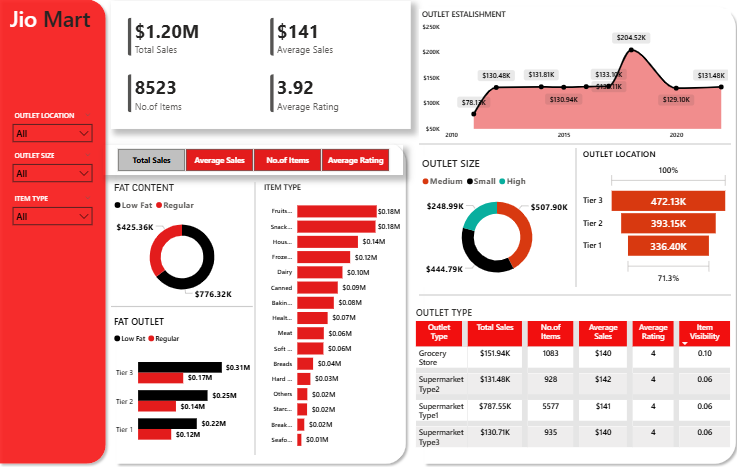

What the dashboard file says about the page in this screenshot:
{"tool":"powerbi","page":{"name":"Page 1","canvas":[1320,850],"ordinal":0},"visuals":[{"type":"shape","box":[10.4,13.9,203,824],"z":0},{"type":"textbox","box":[33,26,157.9,59],"z":1000},{"type":"cardVisual","fields":{"Data":["BlinkIT Grocery Data.Total Sales","BlinkIT Grocery Data.Average Sales","BlinkIT Grocery Data.No.of Items","BlinkIT Grocery Data.Average Rating"]},"box":[213.4,26,520.4,222],"z":2000},{"type":"shape","box":[213.4,261.9,520.4,575.9],"z":3000},{"type":"donutChart","title":"FAT CONTENT","fields":{"Category":["BlinkIT Grocery Data.Item Fat Content"],"Y":["BlinkIT Grocery Data.Total Sales"]},"box":[213.4,340,246.3,209.9],"z":4000},{"type":"slicer","fields":{"Values":["Metrics.Metrics"]},"box":[199.5,275.8,520.4,52],"z":5000},{"type":"clusteredBarChart","title":"FAT OUTLET ","fields":{"Category":["BlinkIT Grocery Data.Outlet Location Type"],"Series":["BlinkIT Grocery Data.Item Fat Content"],"Y":["BlinkIT Grocery Data.Total Sales"]},"box":[213.4,570.7,246.3,242.9],"z":6000},{"type":"shape","box":[213.4,541.2,246.3,29.5],"z":8000},{"type":"shape","box":[456.2,340,13.9,473.6],"z":9000},{"type":"barChart","title":"ITEM TYPE","fields":{"Category":["BlinkIT Grocery Data.Item Type"],"Y":["BlinkIT Grocery Data.Total Sales"]},"box":[473.6,340,246.3,473.6],"z":10000},{"type":"shape","box":[747.7,26,558.6,811.8],"z":11000},{"type":"lineChart","title":"OUTLET ESTALISHMENT","fields":{"Category":["BlinkIT Grocery Data.Outlet Establishment Year"],"Y":["BlinkIT Grocery Data.Total Sales"]},"box":[747.7,39.9,541.2,235.9],"z":12000},{"type":"shape","box":[747.7,267.1,541.2,13.9],"z":13000},{"type":"donutChart","title":"OUTLET SIZE","fields":{"Category":["BlinkIT Grocery Data.Outlet Size"],"Y":["BlinkIT Grocery Data.Total Sales"]},"box":[747.7,294.9,270.6,227.2],"z":14000},{"type":"shape","box":[1013.1,281,13.9,241.1],"z":15000},{"type":"funnel","title":"OUTLET LOCATION","fields":{"Category":["BlinkIT Grocery Data.Outlet Location Type"],"Y":["Sum(BlinkIT Grocery Data.Sales)"]},"box":[1026.9,281,261.9,241.1],"z":16000},{"type":"shape","box":[747.7,522.1,541.2,27.8],"z":17000},{"type":"pivotTable","title":"OUTLET TYPE","fields":{"Rows":["BlinkIT Grocery Data.Outlet Type"],"Values":["BlinkIT Grocery Data.Total Sales","BlinkIT Grocery Data.No.of Items","BlinkIT Grocery Data.Average Sales","BlinkIT Grocery Data.Average Rating","Avg(BlinkIT Grocery Data.Item Visibility)"]},"box":[737.2,555.1,558.6,281],"z":18000},{"type":"slicer","fields":{"Values":["BlinkIT Grocery Data.Outlet Location Type"]},"box":[33,211.6,157.9,69.4],"z":19000},{"type":"slicer","fields":{"Values":["BlinkIT Grocery Data.Outlet Size"]},"box":[33,281,157.9,69.4],"z":20000},{"type":"slicer","fields":{"Values":["BlinkIT Grocery Data.Item Type"]},"box":[33,355.6,157.9,69.4],"z":21000}]}

Visuals, with their boxes in screenshot pixels (x1, y1, x2, y2), scaled from the page's 1320x850 canvas onto the 737x467 screenshot:
shape: BBox(6, 8, 119, 460)
textbox: BBox(18, 14, 107, 47)
cardVisual - BlinkIT Grocery Data.Total Sales x BlinkIT Grocery Data.Average Sales: BBox(119, 14, 410, 136)
shape: BBox(119, 144, 410, 460)
"FAT CONTENT" donutChart: BBox(119, 187, 257, 302)
slicer - Metrics.Metrics: BBox(111, 152, 402, 180)
"FAT OUTLET " clusteredBarChart: BBox(119, 314, 257, 447)
shape: BBox(119, 297, 257, 314)
shape: BBox(255, 187, 262, 447)
"ITEM TYPE" barChart: BBox(264, 187, 402, 447)
shape: BBox(417, 14, 729, 460)
"OUTLET ESTALISHMENT" lineChart: BBox(417, 22, 720, 152)
shape: BBox(417, 147, 720, 154)
"OUTLET SIZE" donutChart: BBox(417, 162, 569, 287)
shape: BBox(566, 154, 573, 287)
"OUTLET LOCATION" funnel: BBox(573, 154, 720, 287)
shape: BBox(417, 287, 720, 302)
"OUTLET TYPE" pivotTable: BBox(412, 305, 723, 459)
slicer - BlinkIT Grocery Data.Outlet Location Type: BBox(18, 116, 107, 154)
slicer - BlinkIT Grocery Data.Outlet Size: BBox(18, 154, 107, 193)
slicer - BlinkIT Grocery Data.Item Type: BBox(18, 195, 107, 234)
